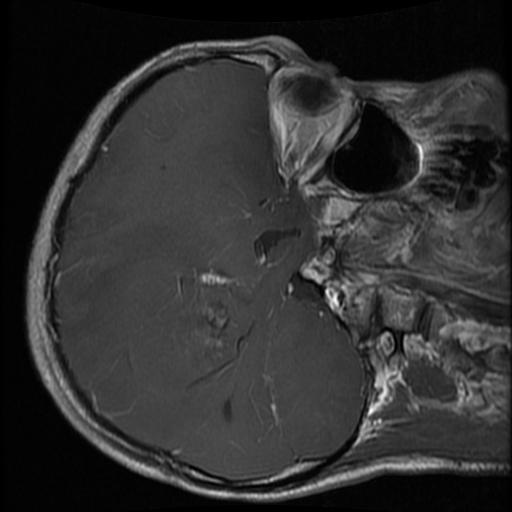glioma: (173, 271, 240, 372)
